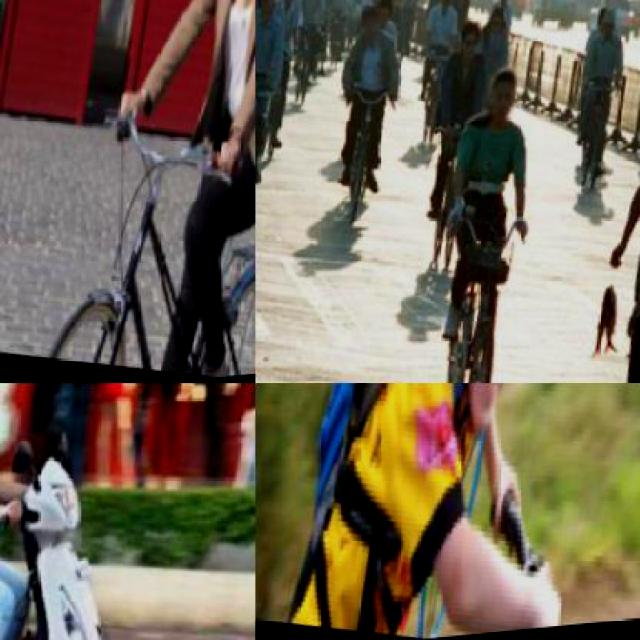Without Helmet: (473, 68, 521, 134), (453, 23, 484, 69), (354, 11, 386, 55), (256, 0, 284, 26), (597, 15, 618, 47), (432, 0, 456, 23)
